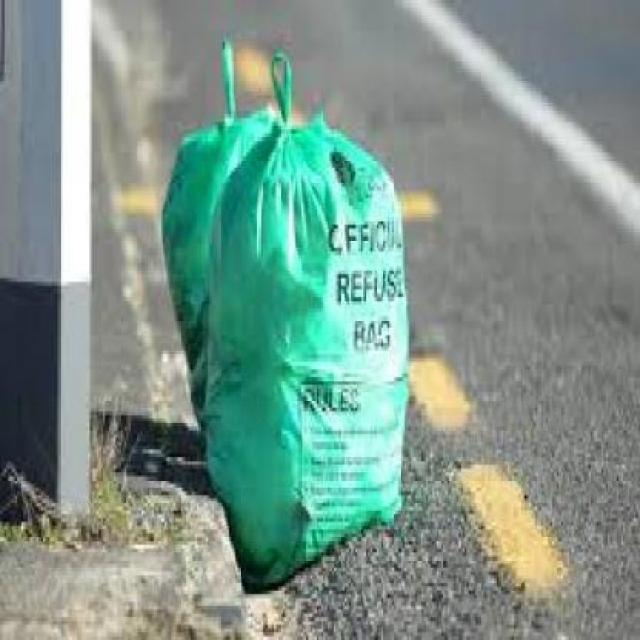garbage: (154, 23, 436, 590)
